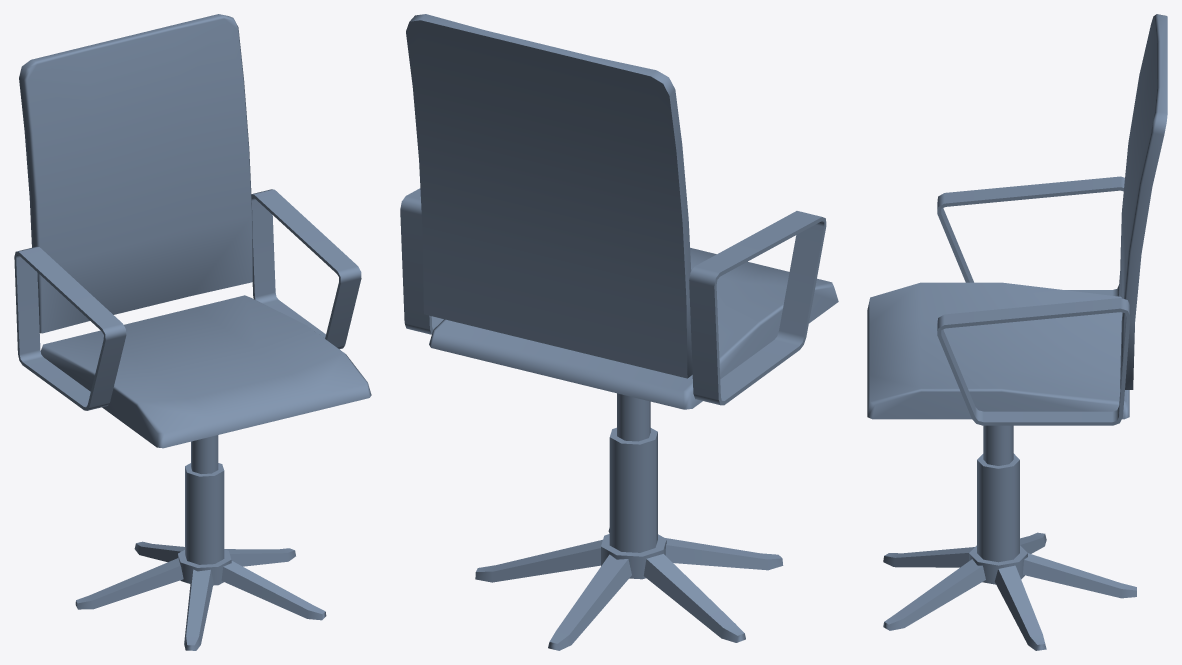
The model's file is SM_Chair_00.fbx.
3 renders of one model, left to right at view 1: azimuth 30°, elevation 25°; view 2: azimuth 150°, elevation 25°; view 3: azimuth 270°, elevation 25°, orthographic. The views are drawn at different scales.
Visible parts, largest first — view 1: Chair_00; view 2: Chair_00; view 3: Chair_00.
Boxes of the visible parts, x1=… form: Chair_00: x1=14, y1=14, x2=371, y2=650; Chair_00: x1=400, y1=14, x2=838, y2=650; Chair_00: x1=867, y1=14, x2=1167, y2=650.
Bounding box in the file's own units: 59.58 × 112 × 57.23.
